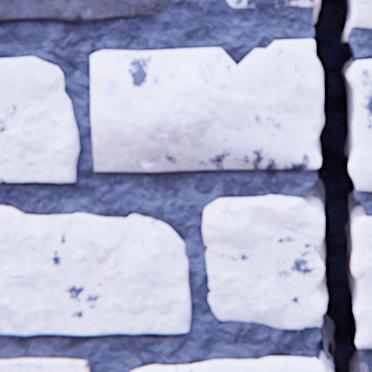brick: (0, 205, 191, 334), (0, 57, 80, 182), (0, 0, 170, 22), (0, 358, 89, 371)
broken_brick: (92, 40, 322, 170), (203, 195, 325, 328), (131, 355, 325, 371), (349, 60, 371, 190), (351, 216, 371, 347), (227, 0, 316, 7), (350, 0, 371, 27)
crack: (301, 0, 370, 371)
